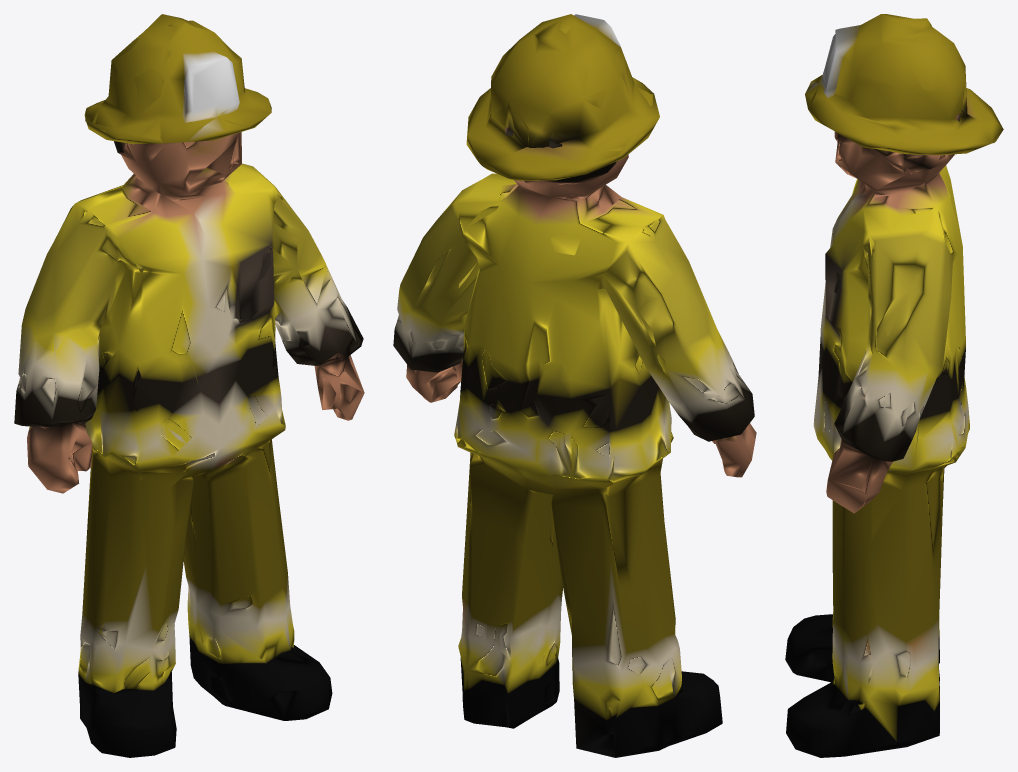
The model's file is gen3d-firefighter-lod0.glb.
3 views of the same model, side by side, from view 1: azimuth 30°, elevation 25°; view 2: azimuth 150°, elevation 25°; view 3: azimuth 270°, elevation 25° (orthographic). The views are drawn at different scales.
Visible parts, largest first — view 1: part_0; view 2: part_0; view 3: part_0.
Boxes of the visible parts, <box> form: part_0: <box>14,14,364,757</box>; part_0: <box>393,14,756,757</box>; part_0: <box>785,14,1003,757</box>.
Size of the model in its own units: 0.5235 by 0.9991 by 0.2875.
